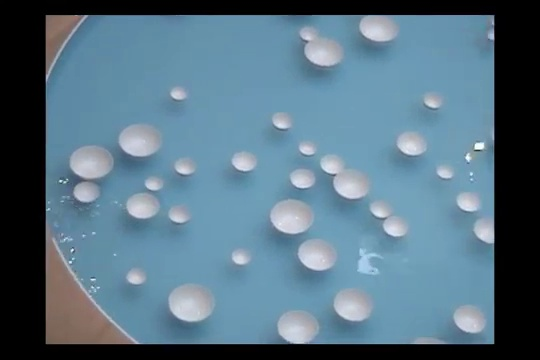bowl: (167, 281, 217, 324), (67, 144, 116, 181), (268, 196, 315, 234), (117, 123, 165, 158), (275, 308, 322, 343), (331, 286, 375, 323), (302, 36, 346, 71), (296, 236, 337, 273), (357, 14, 401, 45), (332, 167, 371, 200), (451, 303, 487, 336), (395, 129, 430, 157), (125, 192, 160, 220), (72, 180, 104, 205), (471, 215, 495, 245), (288, 166, 317, 190), (231, 149, 259, 173), (455, 189, 483, 212), (381, 215, 410, 237), (319, 153, 346, 175), (420, 89, 445, 111), (167, 203, 192, 225), (172, 157, 198, 178), (369, 198, 393, 220), (125, 265, 149, 286), (230, 246, 253, 267), (271, 111, 294, 130), (435, 161, 456, 181), (298, 24, 320, 42), (408, 335, 446, 345), (297, 140, 318, 158), (168, 85, 190, 102), (143, 175, 165, 190), (486, 26, 495, 42)
